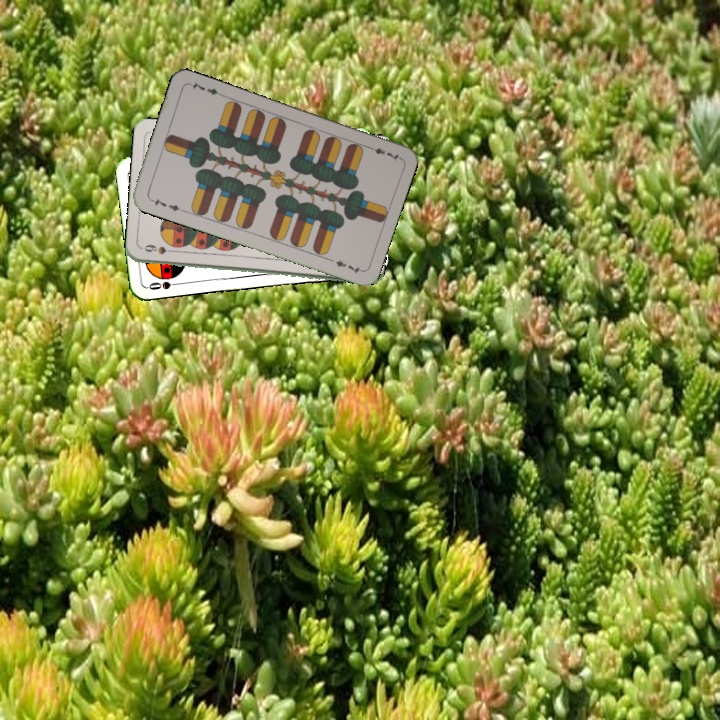E7: (363, 142, 402, 164), (146, 194, 185, 214)
S9: (141, 243, 180, 256)
SO: (144, 277, 185, 293)
